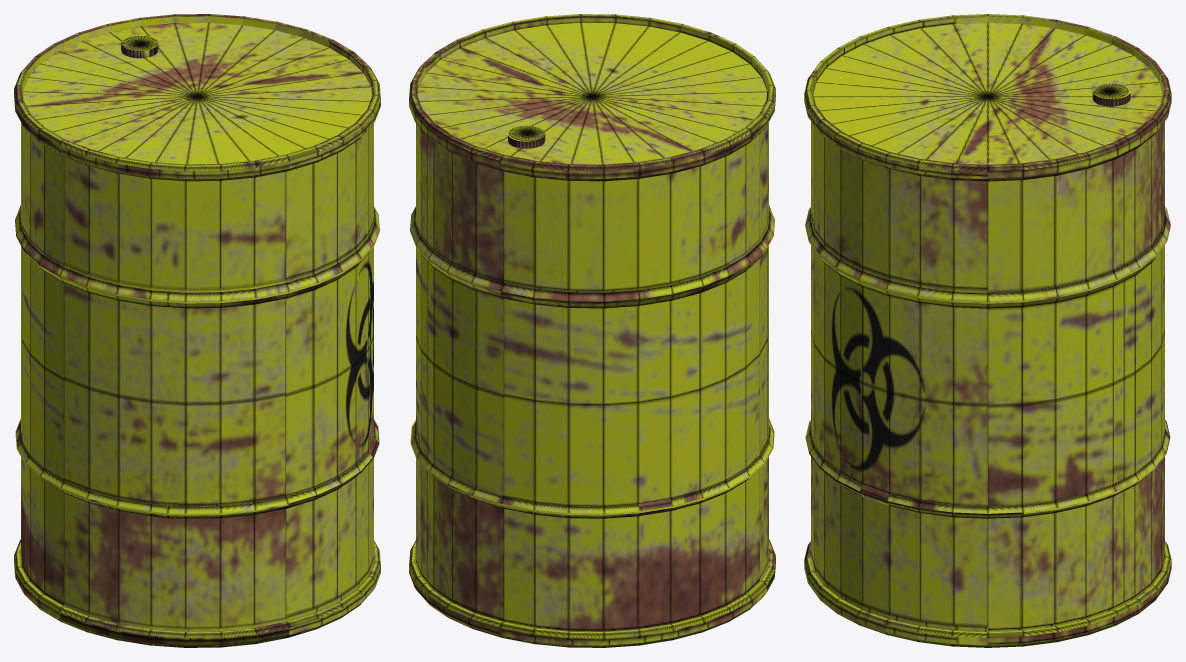
The model's file is barrel.fbx.
3 views of the same model, side by side, from view 1: azimuth 30°, elevation 25°; view 2: azimuth 150°, elevation 25°; view 3: azimuth 270°, elevation 25° (orthographic).
Visible parts, largest first — view 1: Cylinder; view 2: Cylinder; view 3: Cylinder.
Part boxes in pixels (x1,y1,x2,y2): Cylinder: (14,14,380,647); Cylinder: (409,14,775,647); Cylinder: (804,14,1171,647).
Size of the model in its own units: 414 by 599 by 414.
1 material, 1 textured.
